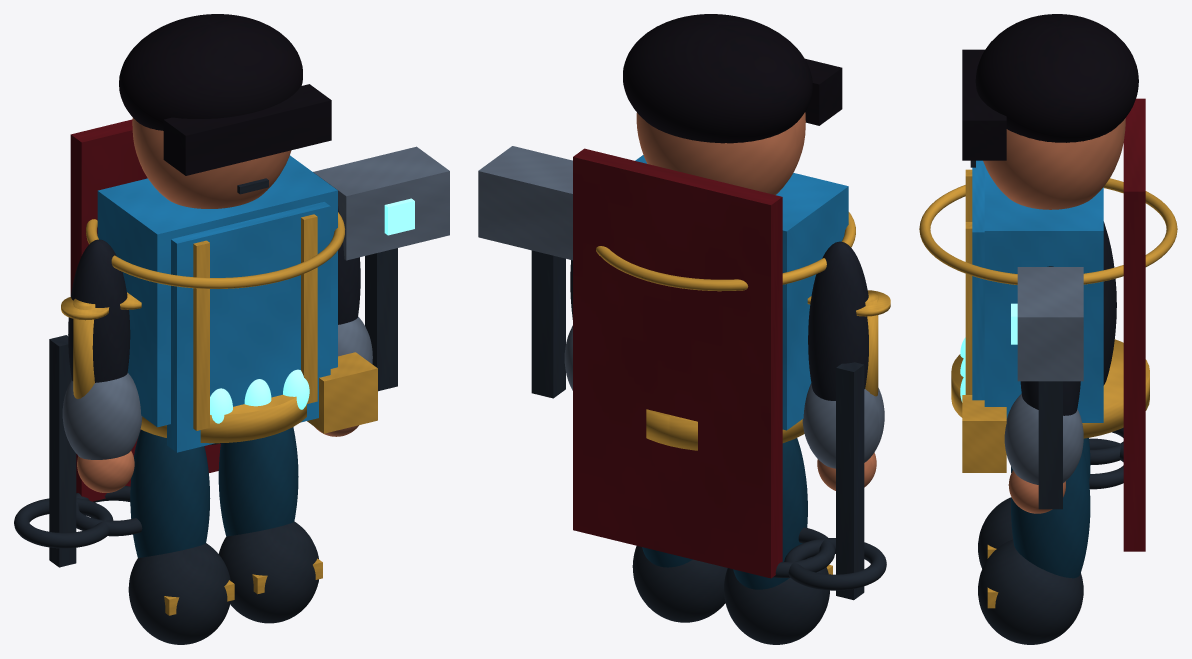
The model's file is Foundation.glb.
The picture shows the model from 3 angles, left to right: view 1: azimuth 30°, elevation 25°; view 2: azimuth 150°, elevation 25°; view 3: azimuth 270°, elevation 25°; orthographic projection. The views are drawn at different scales.
Visible parts, largest first — view 1: MerchantVest, ChestPlate, Hair, HammerHead, HairFringe, Leg, Boot, Boot.001, Leg.001, Cape, Head, Arm (+17 smaller); view 2: Cape, Hair, ChestPlate, HammerHead, Head, Arm, CartHandle, Boot, HammerHandle, Boot.001, Gauntlet, Leg (+7 smaller); view 3: Hair, ChestPlate, Cape, Head, HammerHead, Boot.001, Leg.001, ShoulderCrest, Gauntlet.001, HairFringe, HammerHandle, CoinPouch (+10 smaller).
Part boxes in pixels (x1,y1,x2,y2): MerchantVest: [167, 202, 330, 452]; ChestPlate: [97, 155, 337, 427]; Hair: [119, 14, 302, 130]; HammerHead: [313, 146, 449, 260]; HairFringe: [163, 84, 331, 175]; Leg: [130, 429, 210, 557]; Boot: [128, 543, 230, 644]; Boot.001: [218, 521, 318, 623]; Leg.001: [218, 427, 298, 536]; Cape: [70, 119, 220, 501]; Head: [132, 117, 291, 208]; Arm: [68, 239, 130, 382]; Cape: [573, 148, 782, 578]; Hair: [623, 14, 812, 143]; ChestPlate: [635, 155, 848, 430]; HammerHead: [478, 146, 572, 260]; Head: [636, 112, 805, 194]; Arm: [808, 241, 868, 400]; CartHandle: [836, 362, 864, 600]; Boot: [724, 557, 829, 644]; HammerHandle: [531, 250, 565, 398]; Boot.001: [632, 546, 727, 622]; Gauntlet: [802, 383, 884, 468]; Leg: [733, 438, 807, 589]; Hair: [975, 14, 1138, 142]; ChestPlate: [984, 165, 1103, 422]; Cape: [1123, 98, 1145, 551]; Head: [983, 118, 1125, 209]; HammerHead: [1017, 267, 1083, 381]; Boot.001: [978, 539, 1083, 644]; Leg.001: [1011, 448, 1090, 578]; ShoulderCrest: [919, 178, 1177, 284]; Gauntlet.001: [1004, 394, 1083, 484]; HairFringe: [962, 49, 1006, 160]; HammerHandle: [1038, 381, 1062, 509]; CoinPouch: [962, 395, 1006, 472].
Bounding box in the file's own units: 2.05 × 2.96 × 1.17.
Materials: 12 (9 with a texture image).
